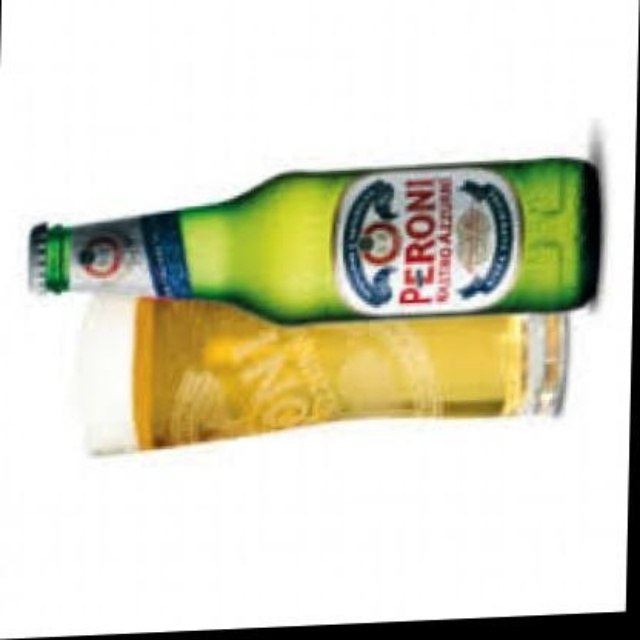trash: (29, 158, 598, 320), (80, 295, 566, 452)
